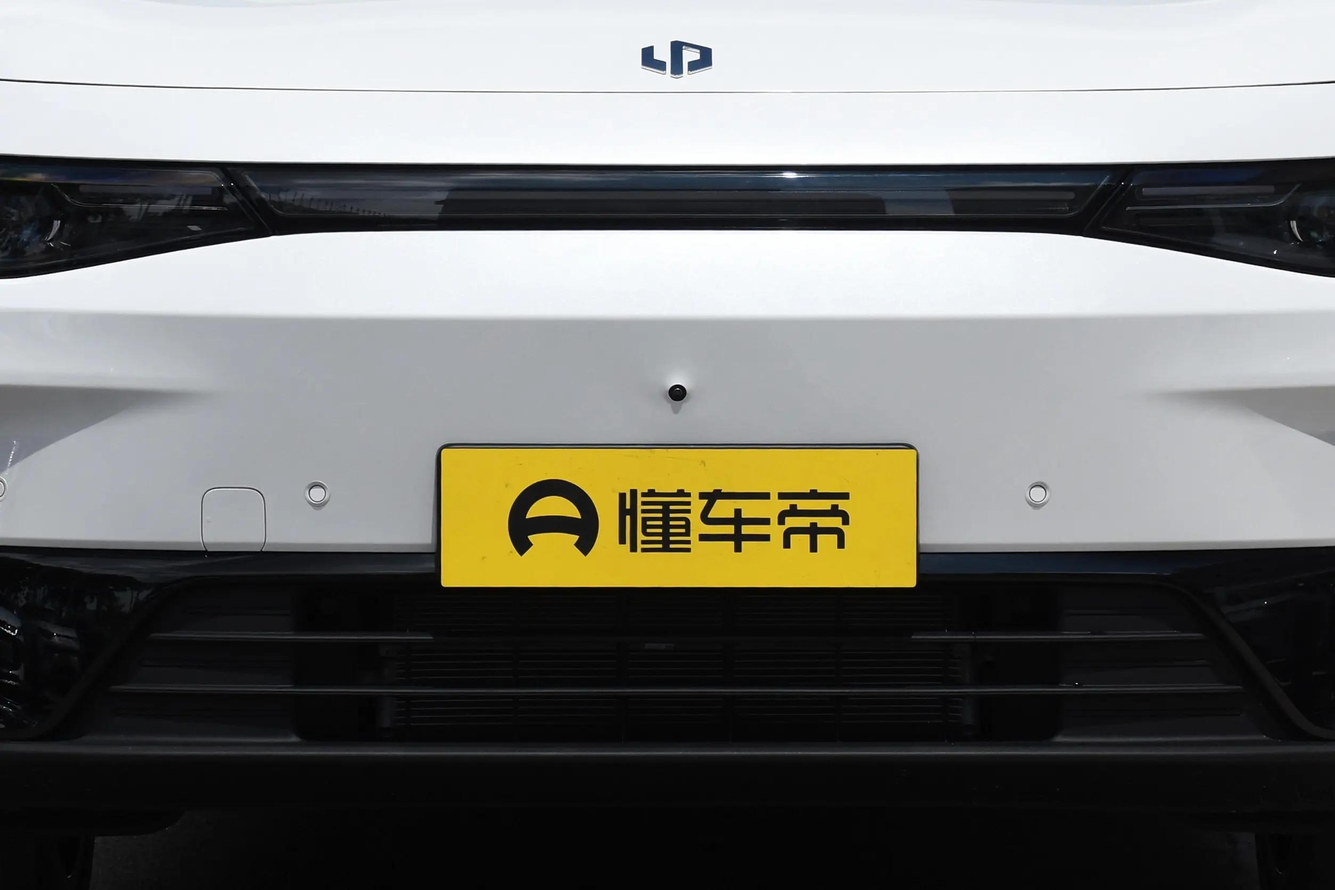LEAPMOTOR: (641, 39, 714, 79)
